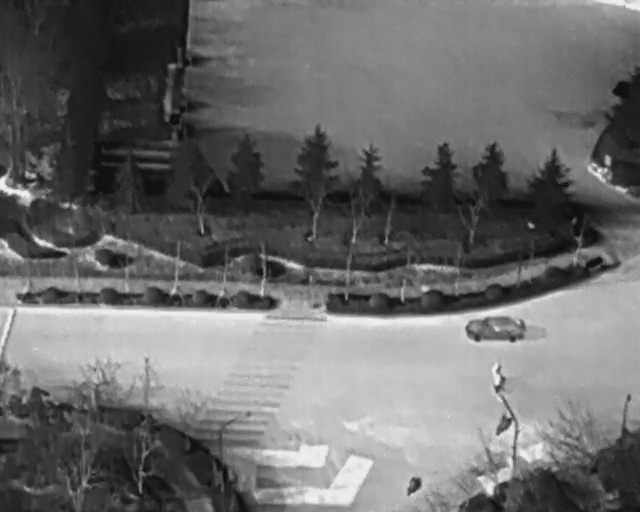Car: (464, 316, 527, 343)
